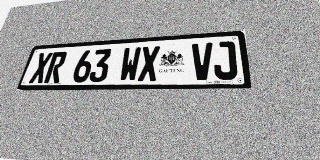3: (88, 49, 112, 82)
6: (71, 50, 95, 83)
J: (213, 41, 238, 80)
R: (43, 51, 68, 83)
V: (191, 42, 213, 80)
W: (118, 47, 141, 82)
X: (28, 52, 53, 83), (138, 46, 160, 81)
